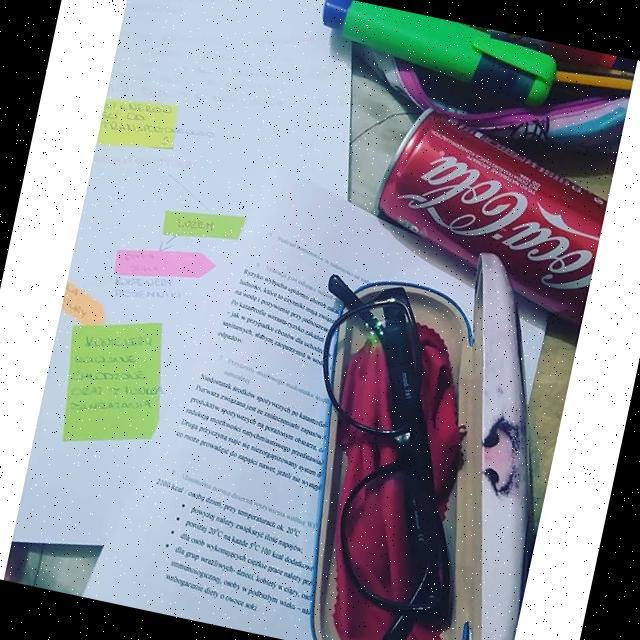coca-cola: (357, 97, 640, 338)
